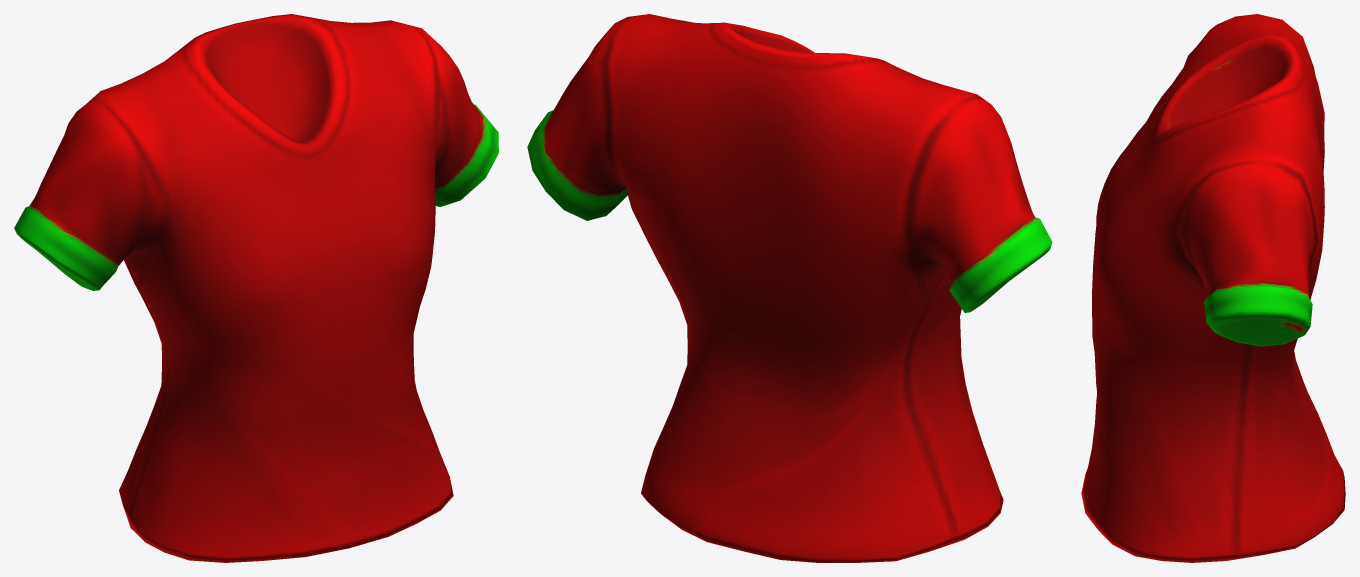
File: Top_TuckedShirt.obj
3 views of the same model, side by side, from view 1: azimuth 30°, elevation 25°; view 2: azimuth 150°, elevation 25°; view 3: azimuth 270°, elevation 25° (orthographic). The views are drawn at different scales.
Parts seen in each view (by area): view 1: Top_TuckedShirt_0; view 2: Top_TuckedShirt_0; view 3: Top_TuckedShirt_0.
Boxes of the visible parts, x1,y1,x2,y2 form: Top_TuckedShirt_0: [14, 14, 498, 562]; Top_TuckedShirt_0: [527, 14, 1052, 562]; Top_TuckedShirt_0: [1081, 14, 1345, 562].
Bounding box in the file's own units: 0.4966 × 0.4578 × 0.2508.
Materials: 1 (1 with a texture image).
